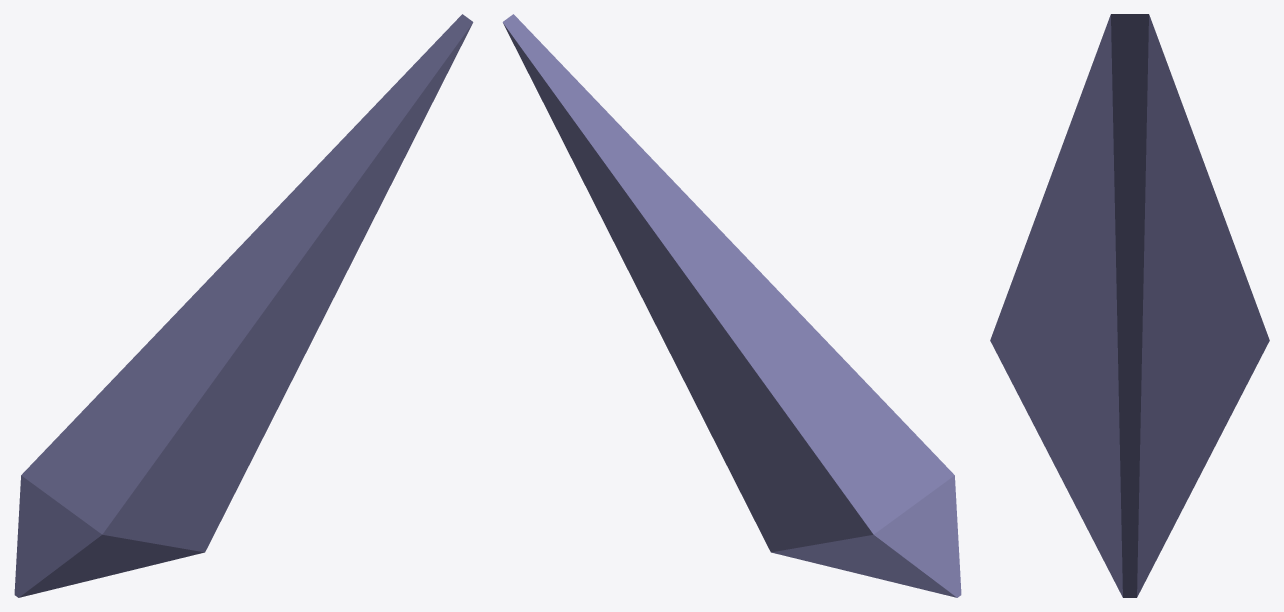
The model's file is sliceB.fbx.
3 views of the same model, side by side, from view 1: azimuth 30°, elevation 25°; view 2: azimuth 150°, elevation 25°; view 3: azimuth 270°, elevation 25° (orthographic). The views are drawn at different scales.
Parts seen in each view (by area): view 1: sliceB; view 2: sliceB; view 3: sliceB.
Boxes of the visible parts, x1,y1,x2,y2 form: sliceB: (14,14,473,597); sliceB: (502,14,961,597); sliceB: (990,14,1269,597).
Bounding box in the file's own units: 3.54 × 3.51 × 1.1.
